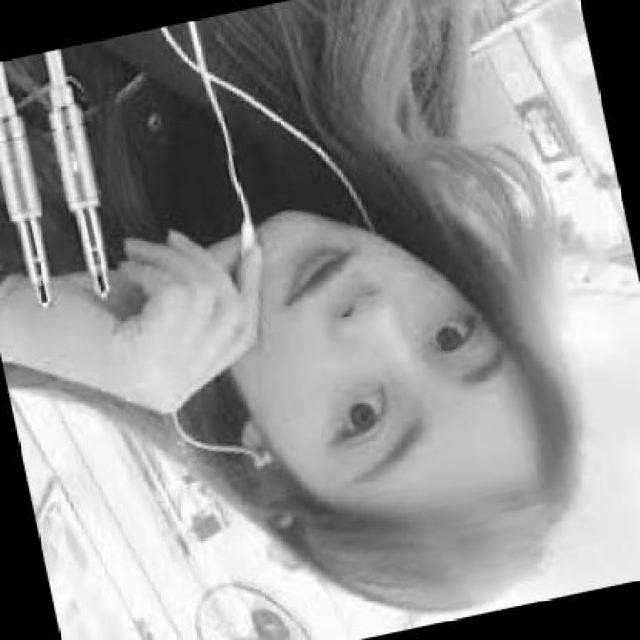earphone: (233, 414, 283, 491)
